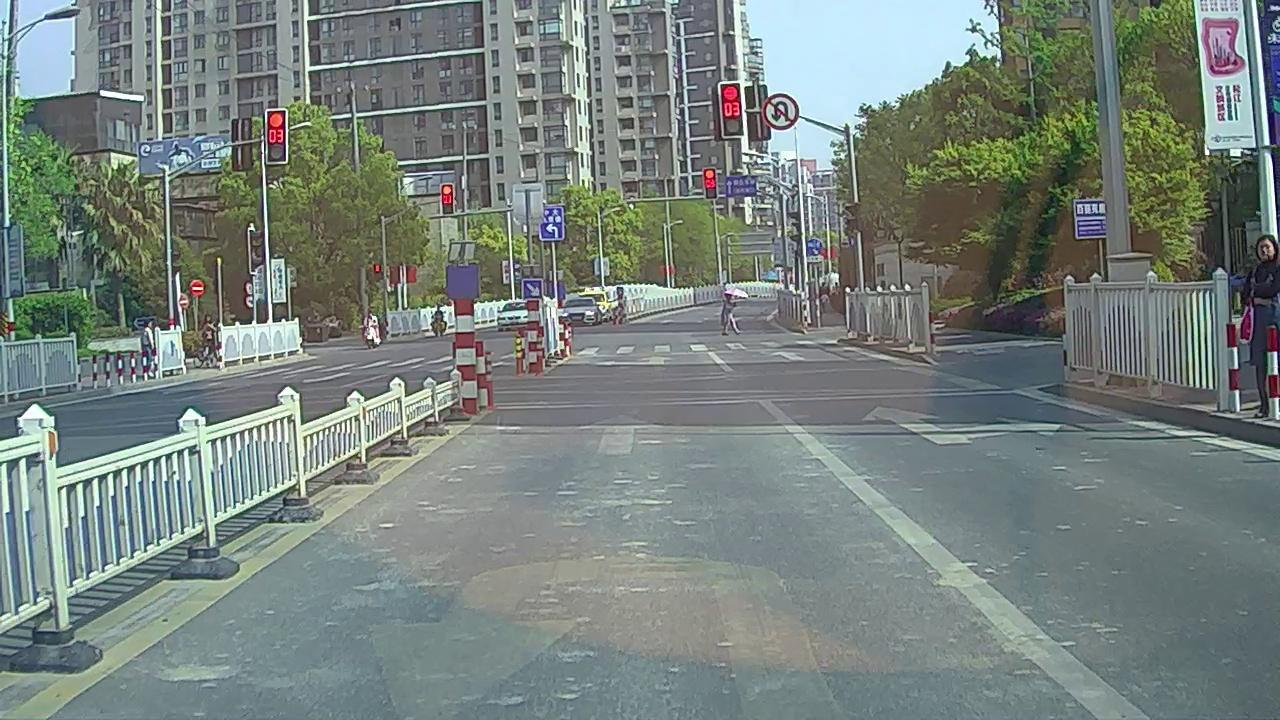traffic_light: (721, 82, 744, 137), (266, 110, 285, 161), (441, 183, 453, 214), (704, 169, 716, 199)
